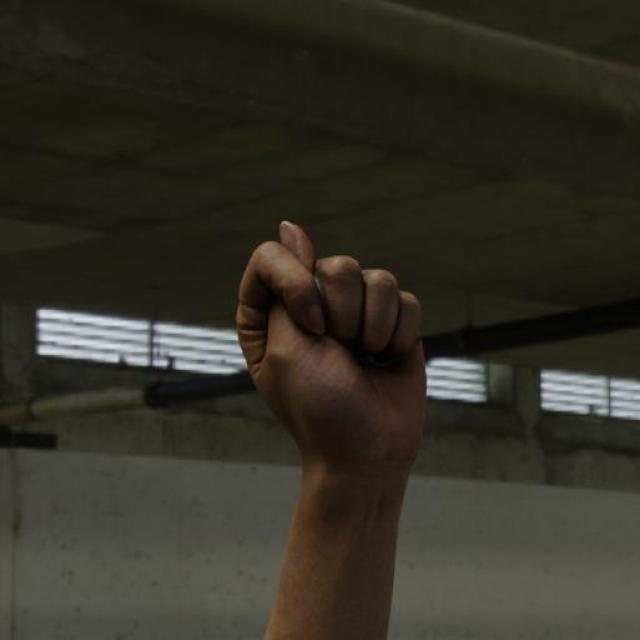T: (231, 216, 435, 460)
